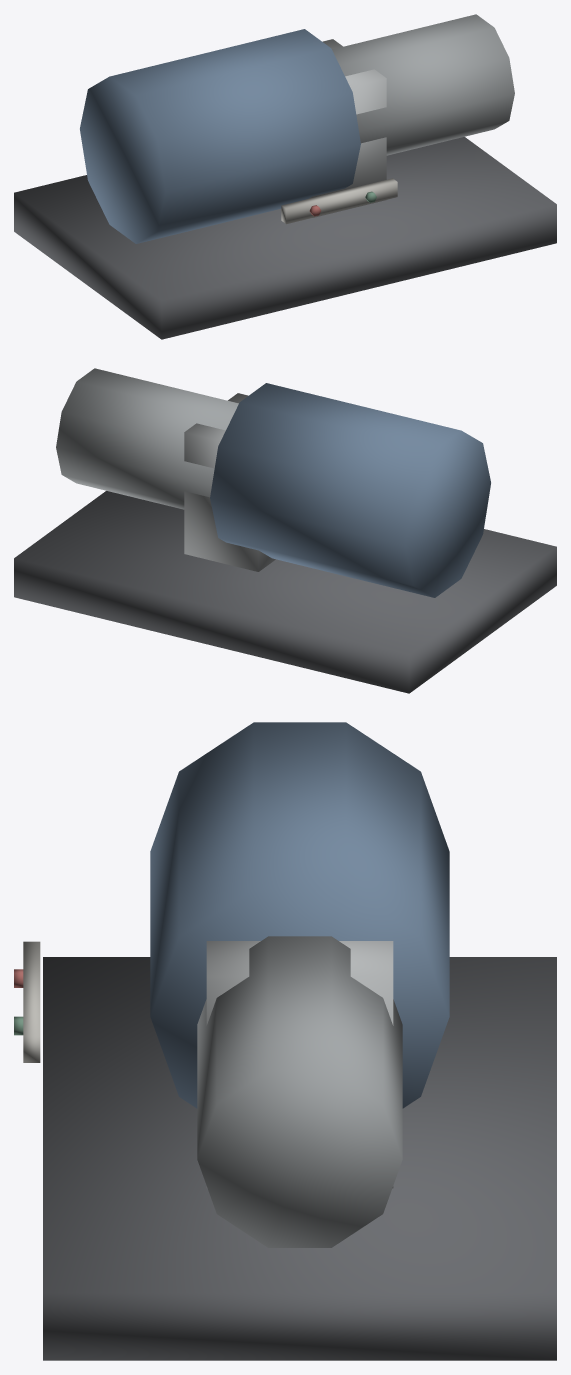
Rendered from circulation_pump.glb.
The picture shows the model from 3 angles, top to bottom: view 1: azimuth 30°, elevation 25°; view 2: azimuth 150°, elevation 25°; view 3: azimuth 270°, elevation 25°; orthographic projection. The views are drawn at different scales.
Parts seen in each view (by area): view 1: world; view 2: world; view 3: world.
Part boxes in pixels (<box>): world: <box>14,14,556,339</box>; world: <box>14,368,556,693</box>; world: <box>14,722,556,1360</box>.
Bounding box in the file's own units: 0.855 × 0.3922 × 0.581.
